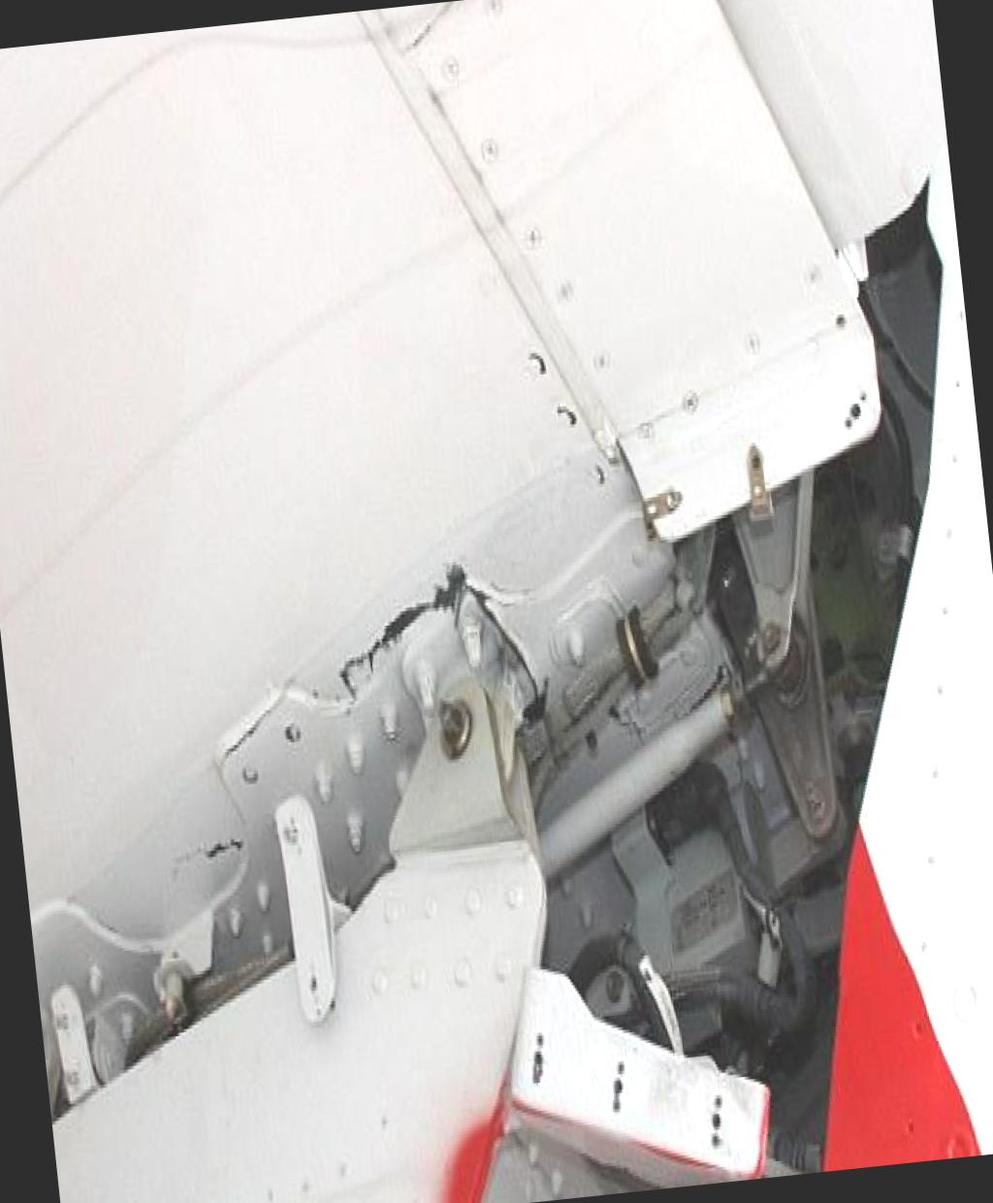crack: (328, 559, 500, 694)
